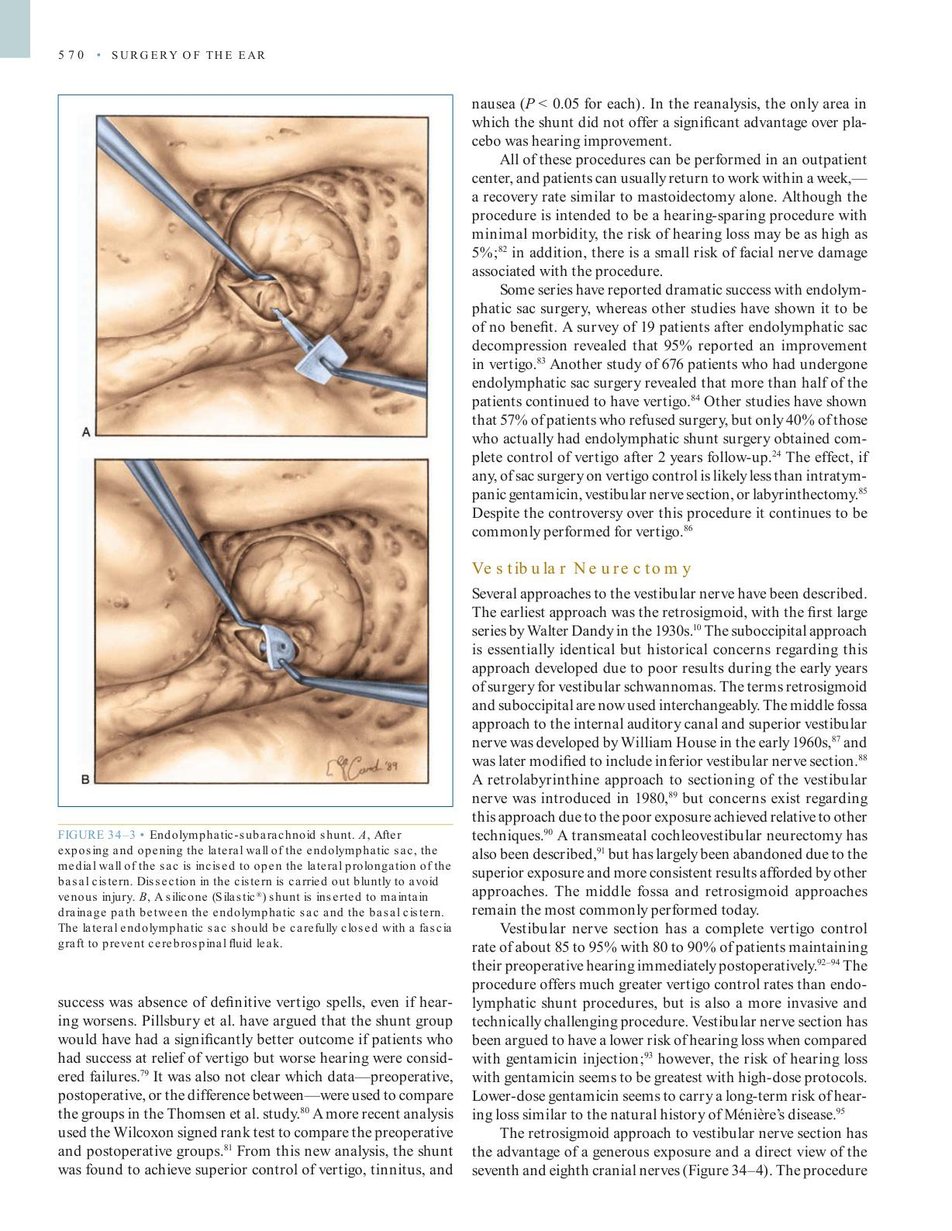caption: (56, 827, 453, 952), (80, 425, 91, 439), (80, 773, 91, 785)
header: (110, 49, 267, 61)
image: (94, 459, 429, 785), (96, 115, 428, 437)
section-heading: (470, 557, 694, 579)
text: (468, 583, 870, 1182), (468, 94, 870, 543), (56, 994, 456, 1180)
